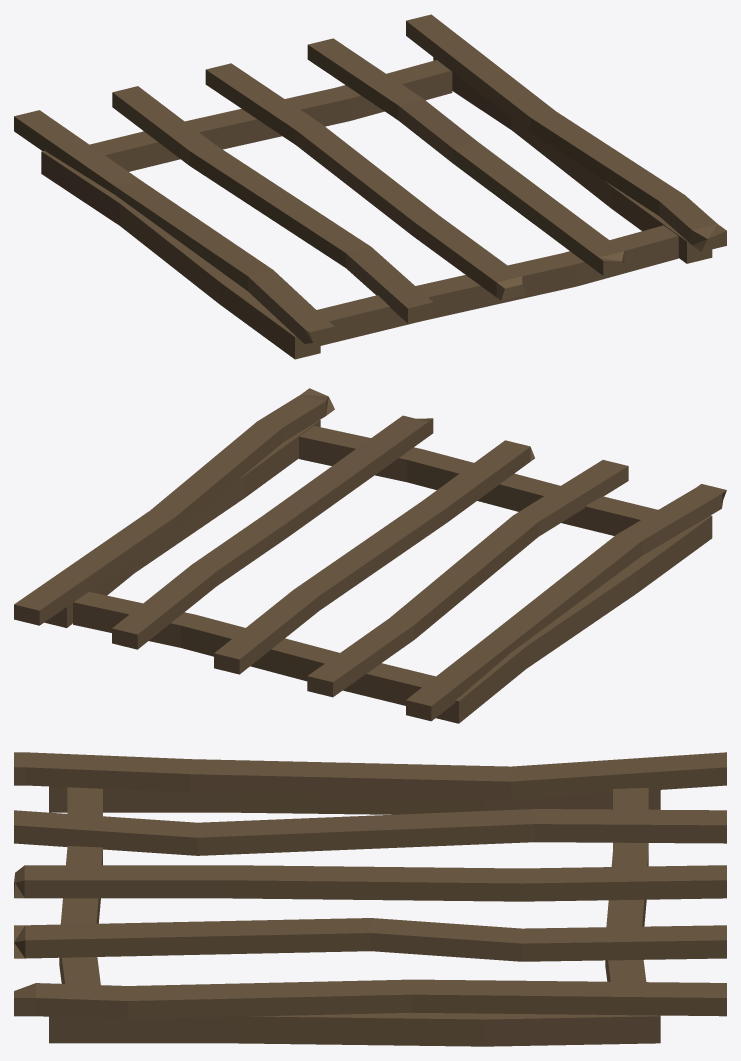
File: house_top.glb
The picture shows the model from 3 angles, top to bottom: view 1: azimuth 30°, elevation 25°; view 2: azimuth 150°, elevation 25°; view 3: azimuth 270°, elevation 25°; orthographic projection. The views are drawn at different scales.
Visible parts, largest first — view 1: SM_Bld_Village_Top_01; view 2: SM_Bld_Village_Top_01; view 3: SM_Bld_Village_Top_01.
Boxes of the visible parts, x1=… form: SM_Bld_Village_Top_01: x1=14, y1=14, x2=726, y2=359; SM_Bld_Village_Top_01: x1=14, y1=388, x2=726, y2=723; SM_Bld_Village_Top_01: x1=14, y1=752, x2=726, y2=1046.
Size of the model in its own units: 358 by 34.24 by 433.
Materials: 1 (1 with a texture image).
